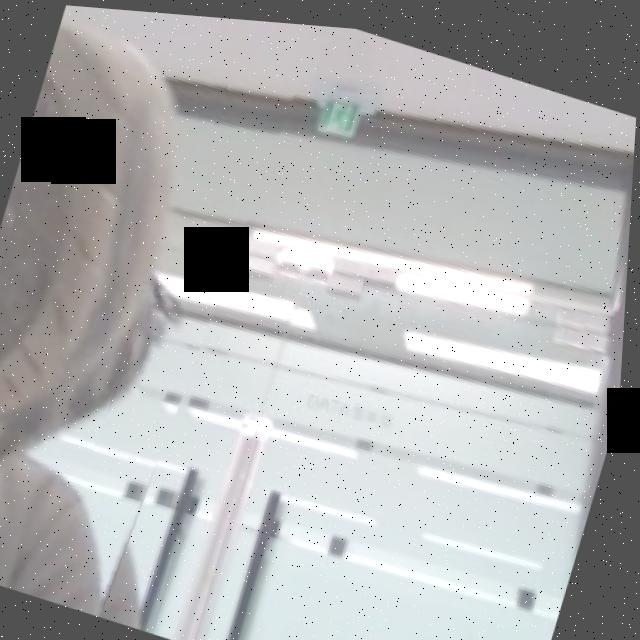shoe: (0, 0, 310, 635)
